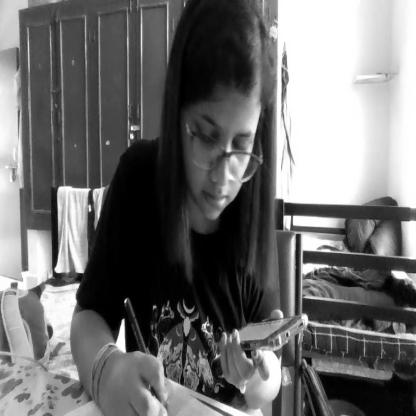Distracted: (171, 0, 275, 241)
